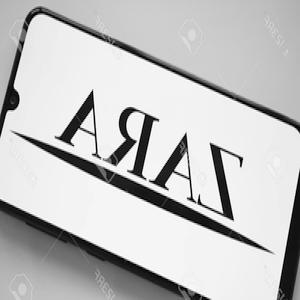mango: (24, 228, 28, 235)
zara: (13, 84, 264, 222)
